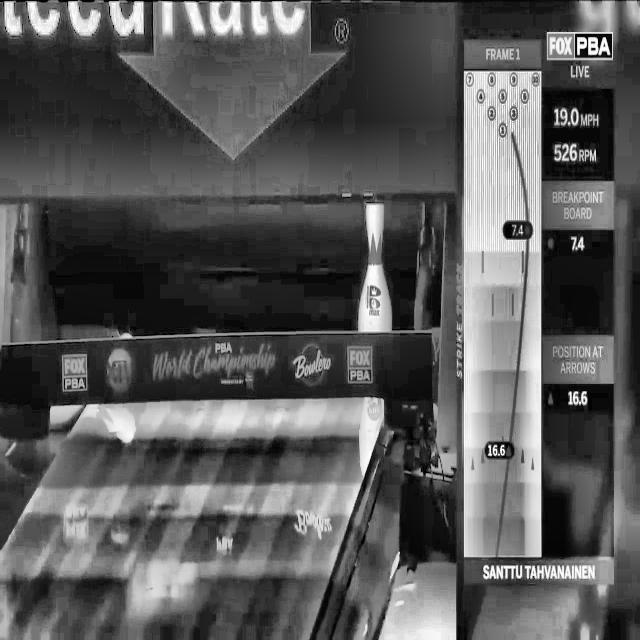bowling-pins: (358, 203, 392, 332)
sweep board: (0, 331, 432, 407)
